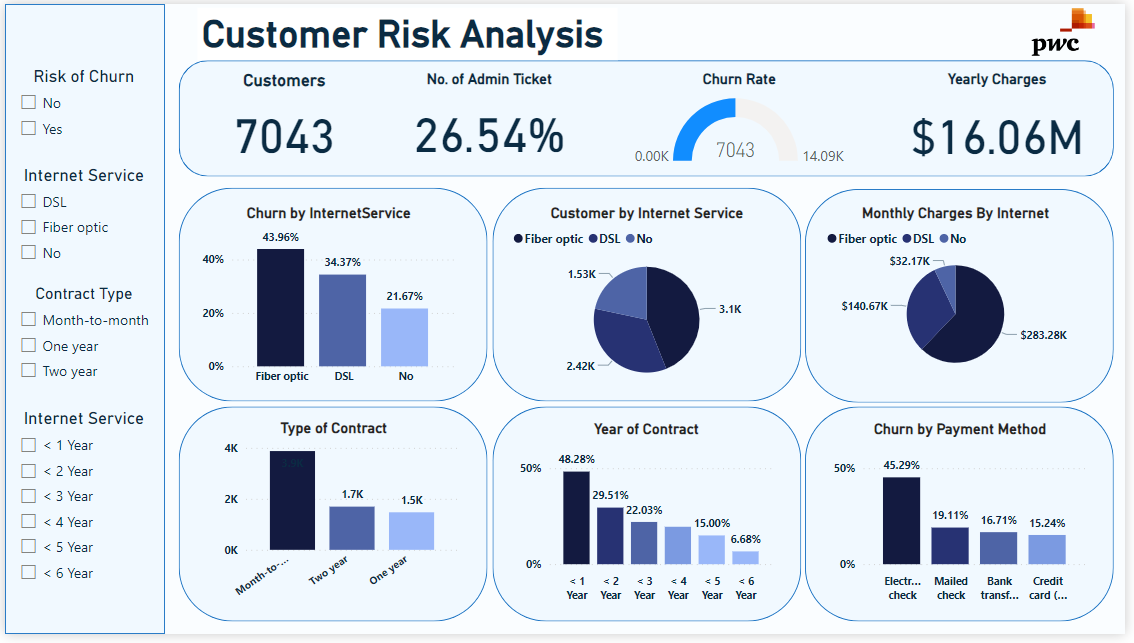

This screenshot's page, from the dashboard's own definition file:
{"tool":"powerbi","page":{"name":"Customer Risk Analysis","canvas":[1280,720],"ordinal":3},"visuals":[{"type":"shape","box":[198.6,210,352.9,244.3],"z":0},{"type":"shape","box":[198.6,64.3,1068.6,132.9],"z":1000},{"type":"shape","box":[0,0,182.9,720],"z":2000},{"type":"textbox","box":[220,4.3,480,60],"z":3000},{"type":"image","box":[1161.4,0,95.7,64.3],"z":4000},{"type":"card","title":"Customers","fields":{"Values":["CountNonNull(Churn.Customer_ID)"]},"box":[241.4,75.7,155.7,121.4],"z":5000},{"type":"card","title":"No. of Admin Ticket","fields":{"Values":["KPI_Churn.Churn Rate"]},"box":[457,75.7,192.9,121.4],"z":6000},{"type":"card","title":"Yearly Charges","fields":{"Values":["Sum(Churn.TotalCharges)"]},"box":[1028.2,75.6,210.4,121],"z":7000},{"type":"slicer","title":"Risk  of Churn","fields":{"Values":["Churn.Churn"]},"box":[5.7,71.4,168.6,90],"z":8000},{"type":"slicer","title":"Contract Type","fields":{"Values":["Churn.Contract"]},"box":[5.7,320,168.6,142.9],"z":9000},{"type":"gauge","title":"Churn Rate","fields":{"Y":["CountNonNull(Churn.Churn)"]},"box":[709.8,75.7,258.6,121.4],"z":10000},{"type":"columnChart","title":"Churn by InternetService","fields":{"Y":["CountNonNull(Churn.Churn)"],"Category":["Churn.InternetService"]},"box":[220,228.6,300,215.7],"z":11000},{"type":"shape","box":[198.6,460,352.9,245.7],"z":12000},{"type":"shape","box":[556.4,210,352.9,244.3],"z":13000},{"type":"shape","box":[914.3,211.4,352.9,244.3],"z":14000},{"type":"shape","box":[556.4,460,352.9,245.7],"z":15000},{"type":"shape","box":[914.3,460,352.9,245.7],"z":16000},{"type":"pieChart","title":"Customer by Internet Service","fields":{"Category":["Churn.InternetService"],"Y":["CountNonNull(Churn.Customer_ID)"]},"box":[575.7,228.6,315.7,215.7],"z":17000},{"type":"pieChart","title":"Monthly Charges By Internet","fields":{"Y":["Sum(Churn.MonthlyCharges)"],"Category":["Churn.InternetService"]},"box":[934.3,228.6,304.3,202.9],"z":18000},{"type":"columnChart","title":"Type of Contract","fields":{"Y":["CountNonNull(Churn.Churn)"],"Category":["Churn.Contract"]},"box":[225.7,474.3,300,215.7],"z":19000},{"type":"columnChart","title":"Year of Contract","fields":{"Y":["KPI_Churn.Churn Rate"],"Category":["Churn.Loyalty"]},"box":[582.9,475.7,300,215.7],"z":20000},{"type":"columnChart","title":"Churn by Payment Method","fields":{"Y":["KPI_Churn.Churn Rate"],"Category":["Churn.PaymentMethod"]},"box":[941.4,475.7,300,215.7],"z":21000},{"type":"slicer","title":"Internet Service","fields":{"Values":["Churn.InternetService"]},"box":[5.7,184.3,168.6,121.4],"z":22000},{"type":"slicer","title":"Internet Service","fields":{"Values":["Churn.Loyalty"]},"box":[5.7,462.9,168.6,208.6],"z":23000}]}

Visuals, with their boxes in screenshot pixels (x1, y1, x2, y2), scaled from the page's 1280x720 canvas onto the 1134x643 screenshot:
shape: (176,188,489,406)
shape: (176,57,1123,176)
shape: (0,0,162,642)
textbox: (195,4,620,57)
image: (1029,0,1114,57)
"Customers" card: (214,68,352,176)
"No. of Admin Ticket" card: (405,68,576,176)
"Yearly Charges" card: (911,68,1097,176)
"Risk  of Churn" slicer: (5,64,154,144)
"Contract Type" slicer: (5,286,154,413)
"Churn Rate" gauge: (629,68,858,176)
"Churn by InternetService" columnChart: (195,204,461,397)
shape: (176,411,489,630)
shape: (493,188,806,406)
shape: (810,189,1123,407)
shape: (493,411,806,630)
shape: (810,411,1123,630)
"Customer by Internet Service" pieChart: (510,204,790,397)
"Monthly Charges By Internet" pieChart: (828,204,1097,385)
"Type of Contract" columnChart: (200,424,466,616)
"Year of Contract" columnChart: (516,425,782,617)
"Churn by Payment Method" columnChart: (834,425,1100,617)
"Internet Service" slicer: (5,165,154,273)
"Internet Service" slicer: (5,413,154,600)
